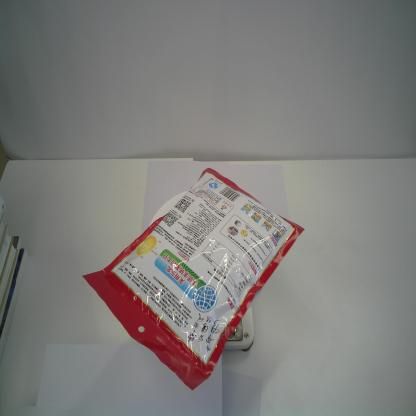Instant Drink: (81, 168, 305, 390)
